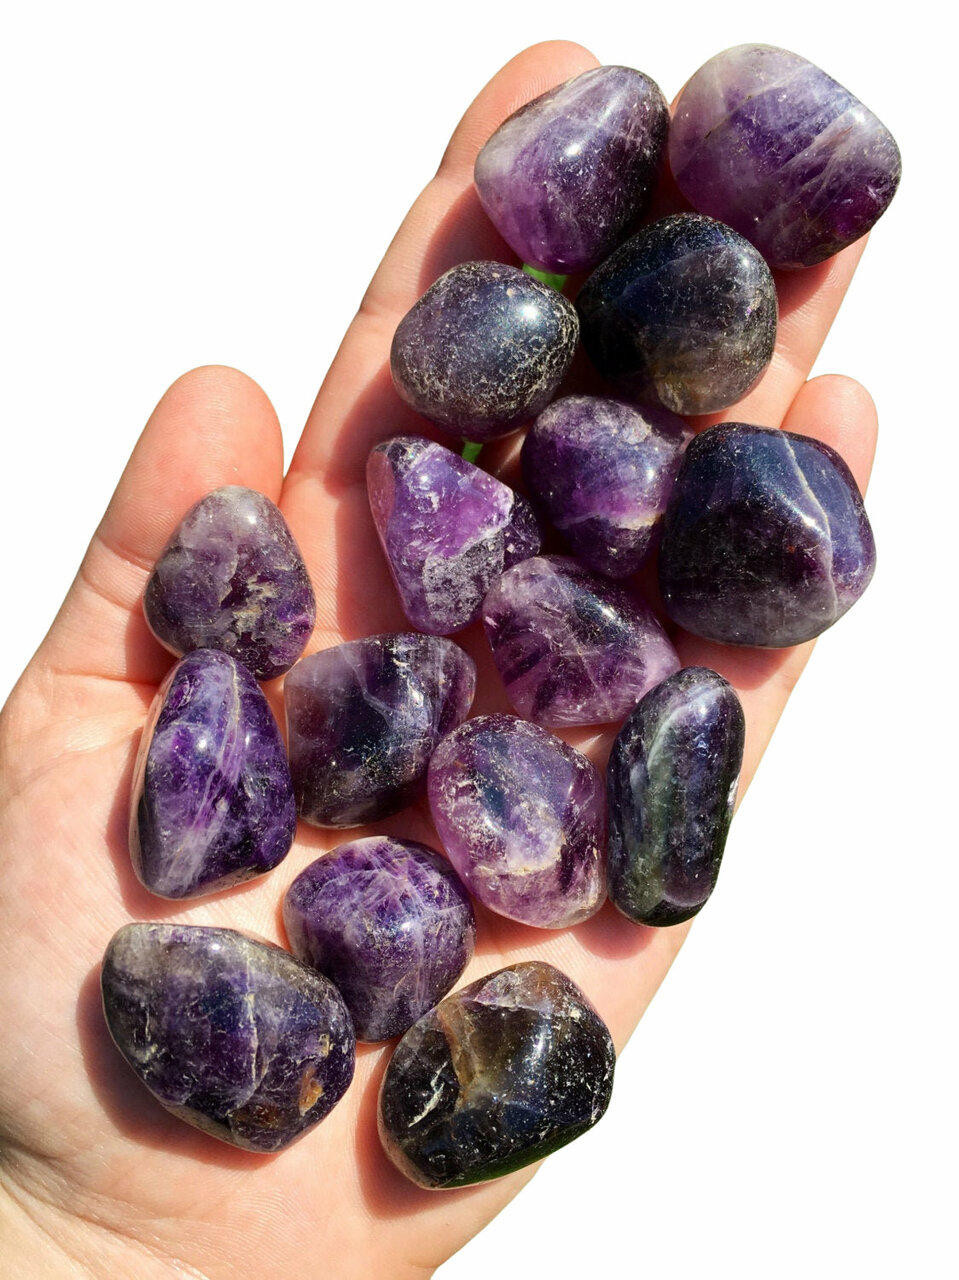Amethyst: (99, 918, 360, 1152), (377, 958, 624, 1201), (667, 37, 905, 271), (658, 418, 879, 662), (128, 650, 300, 901), (598, 663, 748, 931), (472, 61, 668, 264), (426, 707, 598, 934), (591, 215, 779, 414), (362, 440, 549, 637), (145, 479, 322, 685), (295, 628, 472, 827), (390, 264, 591, 438), (307, 845, 465, 1022)
